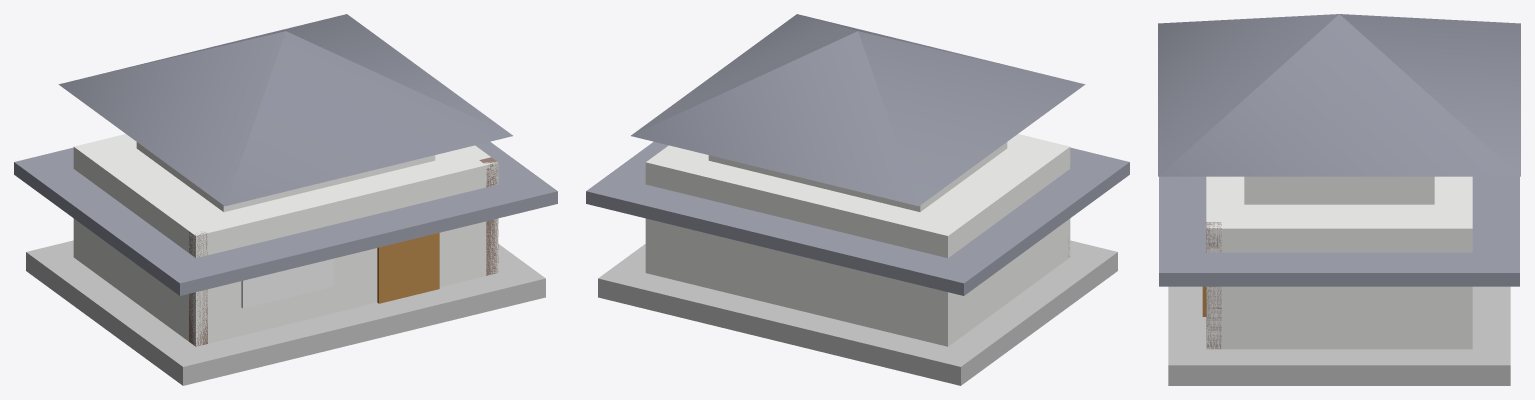
The model's file is japanese_house.gltf.
3 renders of one model, left to right at view 1: azimuth 30°, elevation 25°; view 2: azimuth 150°, elevation 25°; view 3: azimuth 270°, elevation 25°, orthographic. The views are drawn at different scales.
Size of the model in its own units: 125 by 80 by 95.46.
